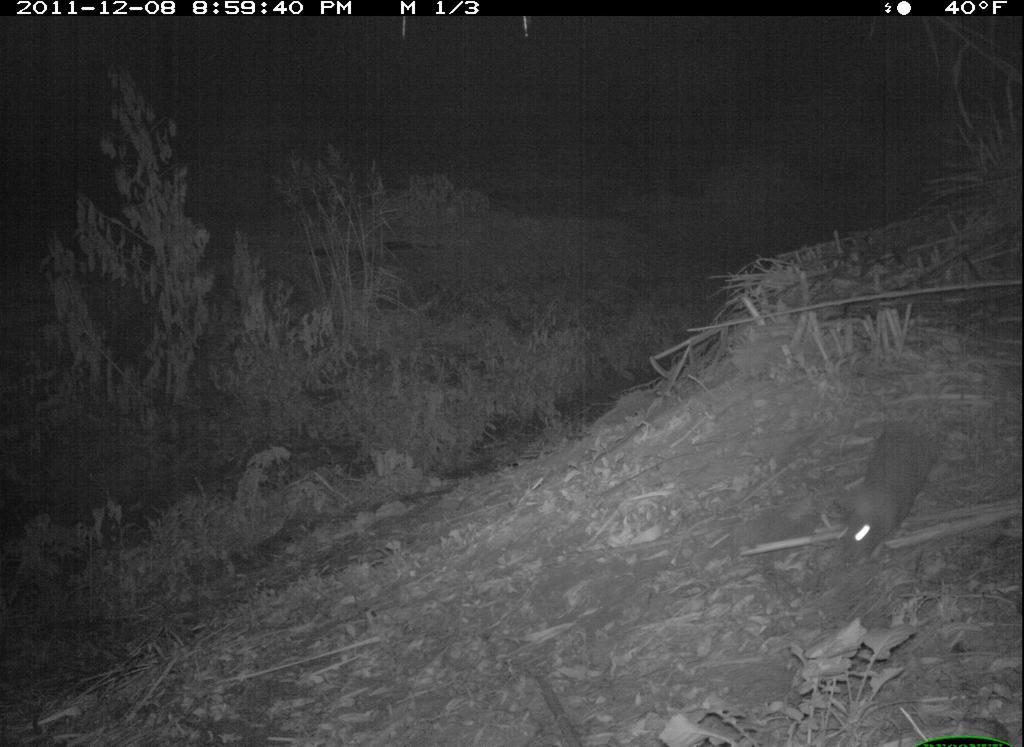rabbit: (833, 418, 948, 579)
